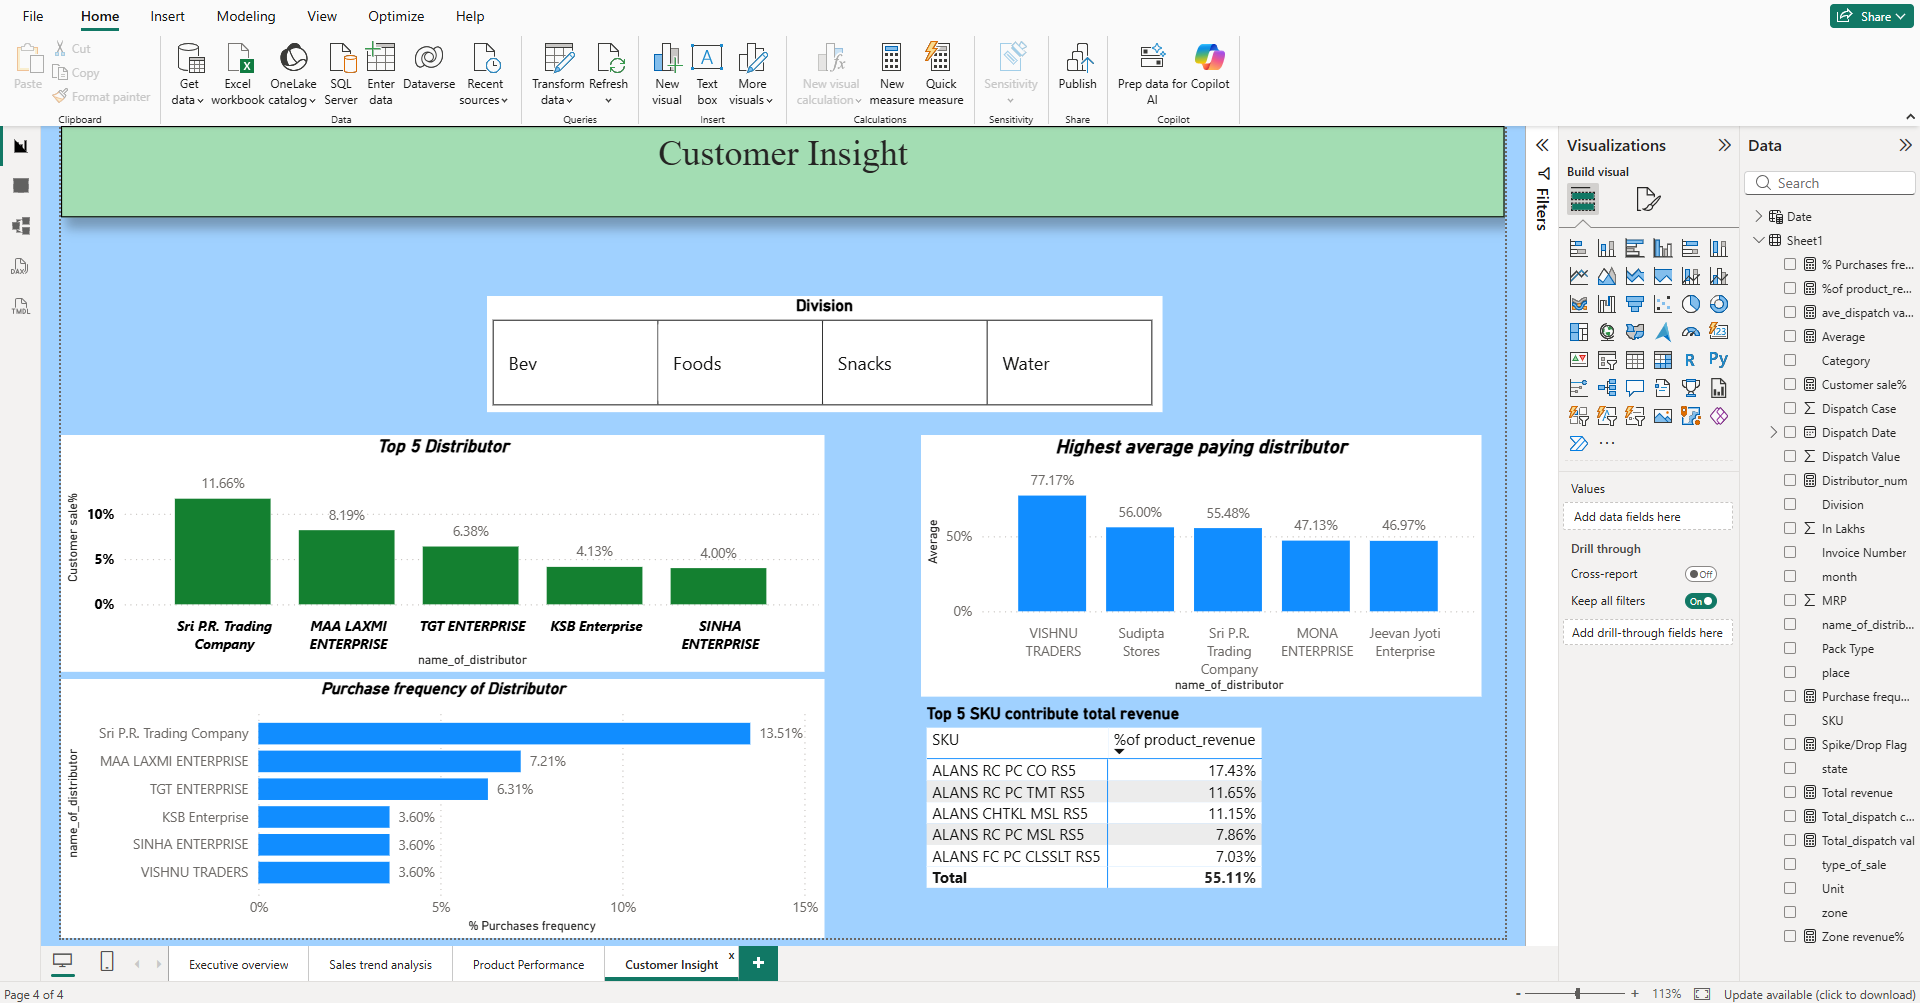

The page's visual inventory and layout, read from the dashboard file:
{"tool":"powerbi","page":{"name":"Customer Insight","canvas":[1280,720],"ordinal":3},"visuals":[{"type":"columnChart","title":"Top 5 Distributor ","fields":{"Category":["Sheet1.name_of_distributor"],"Y":["Sheet1.Customer sale%"]},"box":[0,274,677.4,210.1],"z":0},{"type":"barChart","title":"Purchase frequency of Distributor","fields":{"Category":["Sheet1.name_of_distributor"],"Y":["Sheet1.% Purchases frequency"]},"box":[0,490.3,677.4,229.7],"z":1000},{"type":"pivotTable","title":"Top 5 SKU contribute total revenue ","fields":{"Rows":["Sheet1.SKU"],"Values":["Sheet1.%of product_revenue"]},"box":[762.6,512.5,517.8,207.5],"z":2000},{"type":"columnChart","title":"Highest average  paying distributor ","fields":{"Category":["Sheet1.name_of_distributor"],"Y":["Sheet1.Average"]},"box":[762.6,274,496.6,232.3],"z":3000},{"type":"advancedSlicerVisual","fields":{"Values":["Sheet1.Division"]},"box":[377.7,150.7,598.5,102.9],"z":4000},{"type":"textbox","box":[0,0,1280.4,80.7],"z":5000}]}

Visuals, with their boxes on the page's 1280x720 design canvas (x1, y1, x2, y2). These are canvas units, not pixel positions in the 1920x1003 screenshot, which may show the page scaled, cropped or inside an application window:
"Top 5 Distributor " columnChart: locate(0, 274, 677, 484)
"Purchase frequency of Distributor" barChart: locate(0, 490, 677, 720)
"Top 5 SKU contribute total revenue " pivotTable: locate(763, 512, 1280, 720)
"Highest average  paying distributor " columnChart: locate(763, 274, 1259, 506)
advancedSlicerVisual - Sheet1.Division: locate(378, 151, 976, 254)
textbox: locate(0, 0, 1280, 81)
